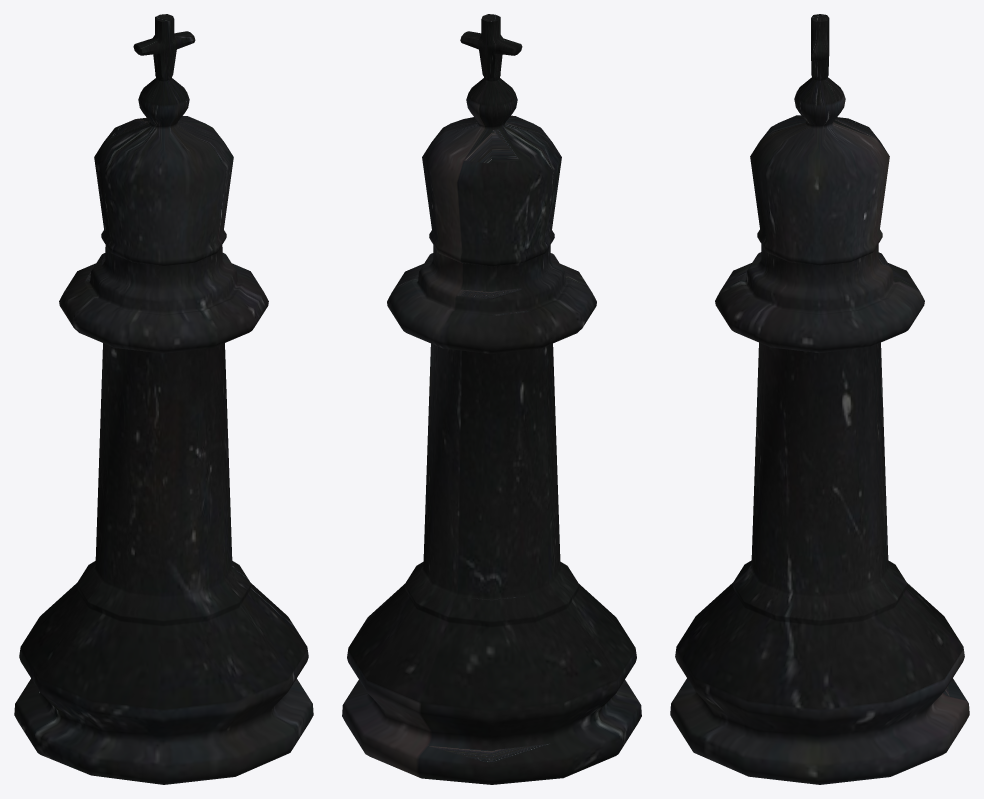
File: King.obj
The picture shows the model from 3 angles, left to right: view 1: azimuth 30°, elevation 25°; view 2: azimuth 150°, elevation 25°; view 3: azimuth 270°, elevation 25°; orthographic projection.
Parts seen in each view (by area): view 1: mesh01; view 2: mesh01; view 3: mesh01.
Part boxes in pixels (x1,y1,x2,y2): mesh01: (14,14,313,784); mesh01: (342,14,641,784); mesh01: (670,14,969,784).
Bounding box in the file's own units: 14.6 × 38.09 × 14.6.
1 material, 1 textured.
